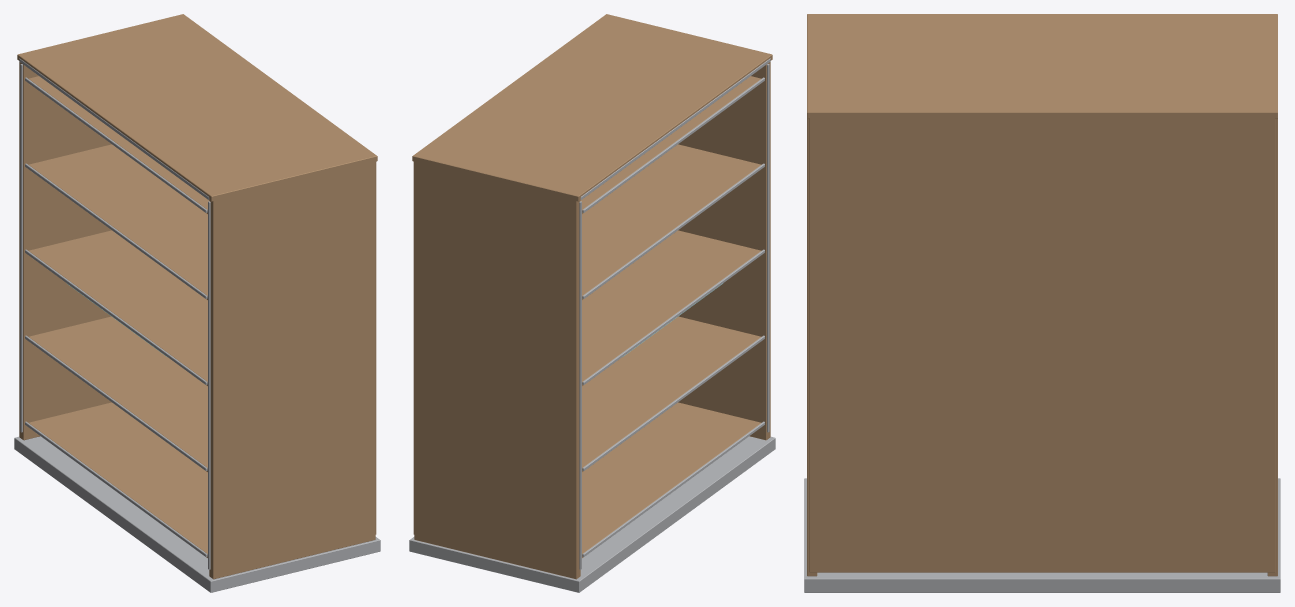
Rendered from prop_shelf_01.glb.
3 renders of one model, left to right at view 1: azimuth 30°, elevation 25°; view 2: azimuth 150°, elevation 25°; view 3: azimuth 270°, elevation 25°, orthographic. The views are drawn at different scales.
Visible parts, largest first — view 1: prop_shelf_01; view 2: prop_shelf_01; view 3: prop_shelf_01.
Boxes of the visible parts, x1,y1,x2,y2 form: prop_shelf_01: (14,14,380,592); prop_shelf_01: (409,14,775,592); prop_shelf_01: (804,14,1280,592).
Size of the model in its own units: 0.9 by 2 by 1.8.
